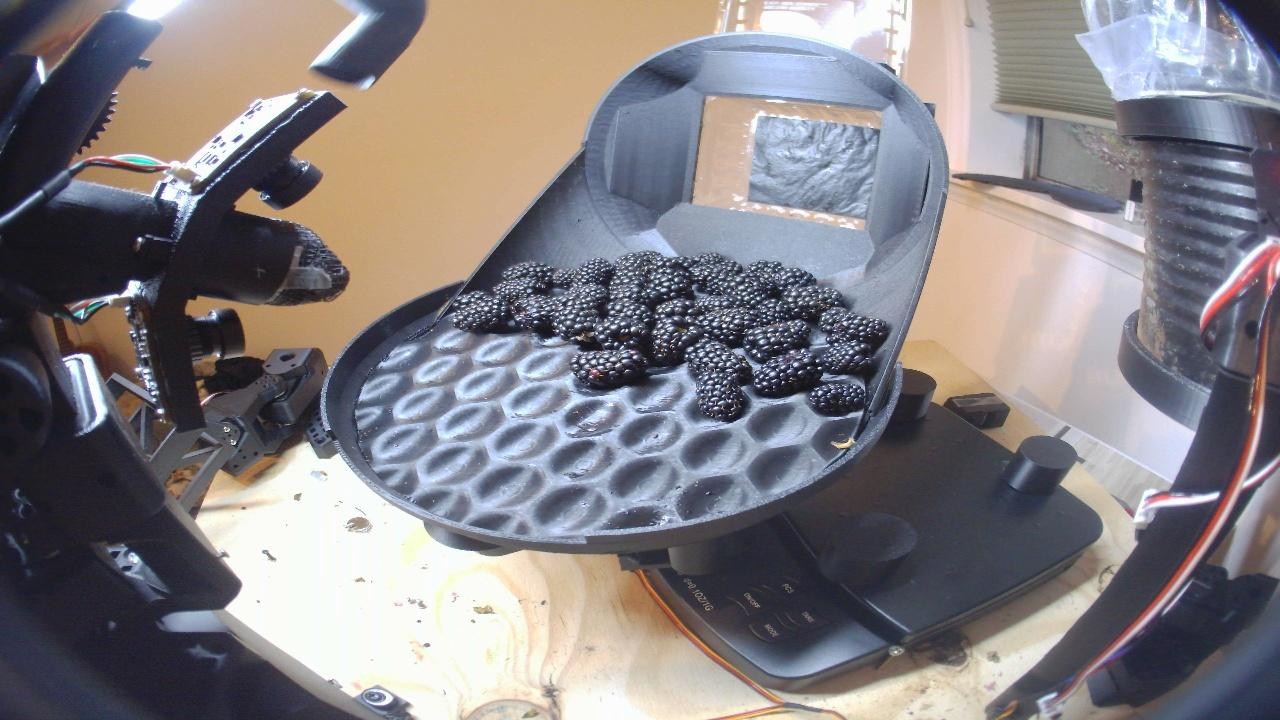berry: (751, 349, 823, 396), (569, 348, 648, 388), (685, 340, 751, 383), (742, 320, 809, 362), (644, 317, 701, 366), (694, 371, 745, 421), (694, 307, 759, 346), (782, 285, 843, 320), (452, 297, 509, 332), (553, 297, 600, 339), (512, 295, 562, 333), (594, 316, 648, 349), (820, 341, 870, 375), (809, 383, 863, 414), (828, 316, 887, 344), (691, 261, 740, 294), (646, 268, 690, 302), (725, 274, 770, 306), (493, 278, 544, 302), (501, 261, 554, 284), (571, 258, 614, 286), (610, 283, 658, 308), (605, 299, 652, 323), (611, 253, 647, 284), (655, 298, 704, 320), (772, 268, 815, 293), (564, 282, 607, 304), (754, 299, 790, 325), (818, 307, 854, 333), (695, 295, 743, 313), (454, 291, 493, 311), (745, 261, 783, 281), (654, 256, 698, 269), (550, 270, 573, 289), (692, 253, 728, 264), (633, 250, 662, 261)
